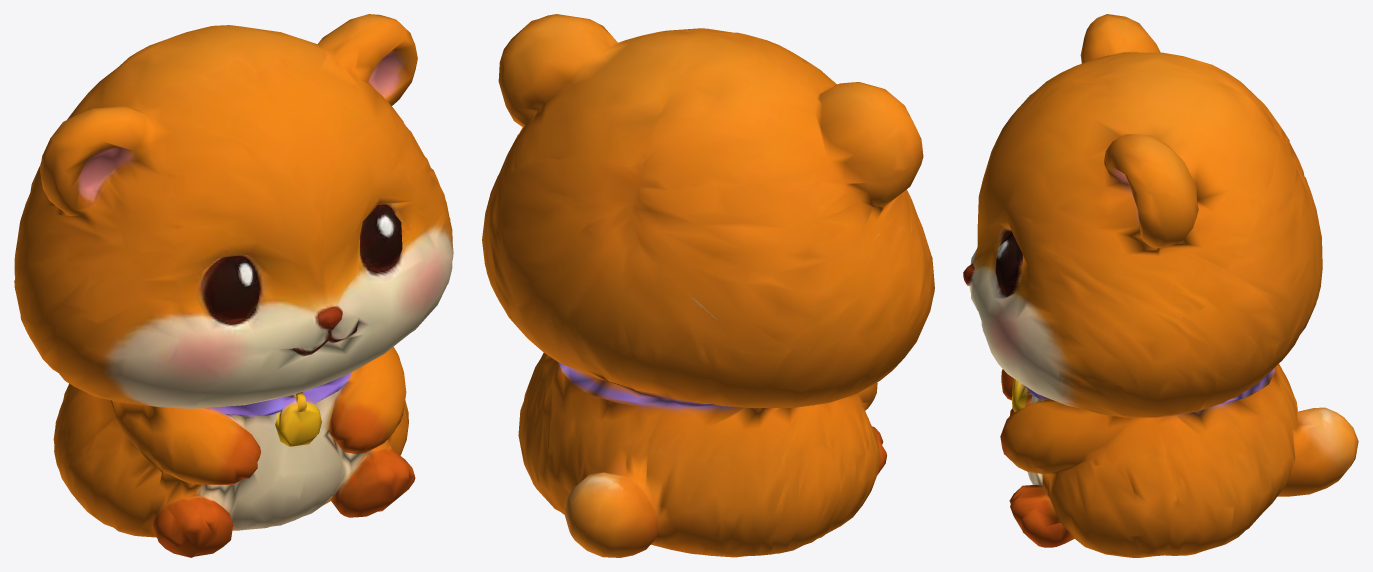
The model's file is 02-milk-mochi.417230eb551f.glb.
3 renders of one model, left to right at view 1: azimuth 30°, elevation 25°; view 2: azimuth 150°, elevation 25°; view 3: azimuth 270°, elevation 25°, orthographic. The views are drawn at different scales.
Parts seen in each view (by area): view 1: tripo_node_c5e53053-7d51-493e-aeaf-caa10f1933f2; view 2: tripo_node_c5e53053-7d51-493e-aeaf-caa10f1933f2; view 3: tripo_node_c5e53053-7d51-493e-aeaf-caa10f1933f2.
Boxes of the visible parts, x1,y1,x2,y2 form: tripo_node_c5e53053-7d51-493e-aeaf-caa10f1933f2: [14, 14, 453, 557]; tripo_node_c5e53053-7d51-493e-aeaf-caa10f1933f2: [482, 14, 934, 557]; tripo_node_c5e53053-7d51-493e-aeaf-caa10f1933f2: [963, 14, 1358, 557].
Bounding box in the file's own units: 0.9015 × 0.9799 × 0.807.
1 material, 1 textured.
